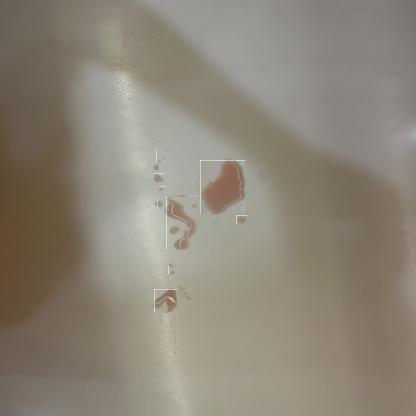liquid: (200, 160, 245, 213), (166, 196, 197, 250), (154, 289, 177, 312), (179, 286, 191, 300), (156, 149, 167, 163), (236, 215, 247, 224), (155, 173, 164, 183), (170, 225, 180, 234), (168, 264, 175, 274), (156, 200, 163, 207), (191, 201, 198, 208), (153, 165, 159, 170), (160, 186, 166, 191)
